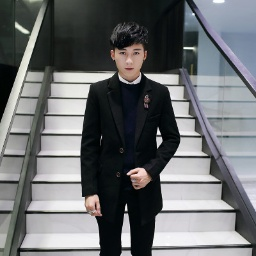face: (110, 21, 150, 80)
